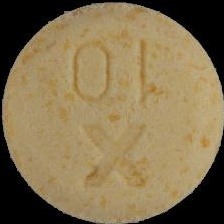54868-5046: (0, 0, 224, 224)
